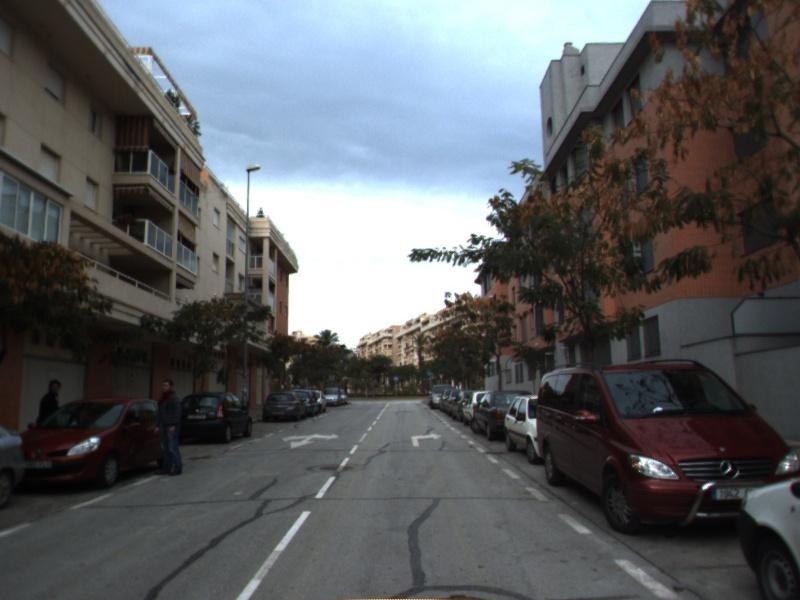RIGHT: (409, 430, 444, 448)
